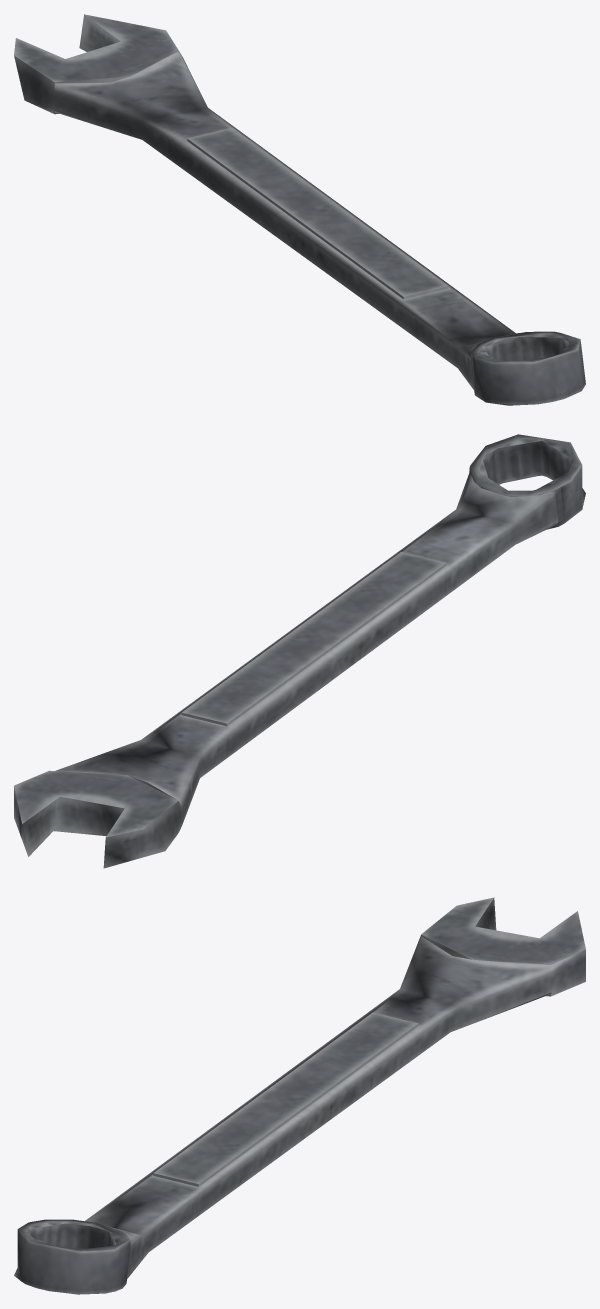
File: combination_wrench.glb
3 views of the same model, one above another, from view 1: azimuth 30°, elevation 25°; view 2: azimuth 150°, elevation 25°; view 3: azimuth 330°, elevation 25° (orthographic).
Visible parts, largest first — view 1: combination_wrench; view 2: combination_wrench; view 3: combination_wrench.
Boxes of the visible parts, x1,y1,x2,y2 form: combination_wrench: (14,14,585,405); combination_wrench: (14,434,585,868); combination_wrench: (14,897,585,1294).
Size of the model in its own units: 0.0565 by 0.0211 by 0.3367.
Materials: 1 (1 with a texture image).
